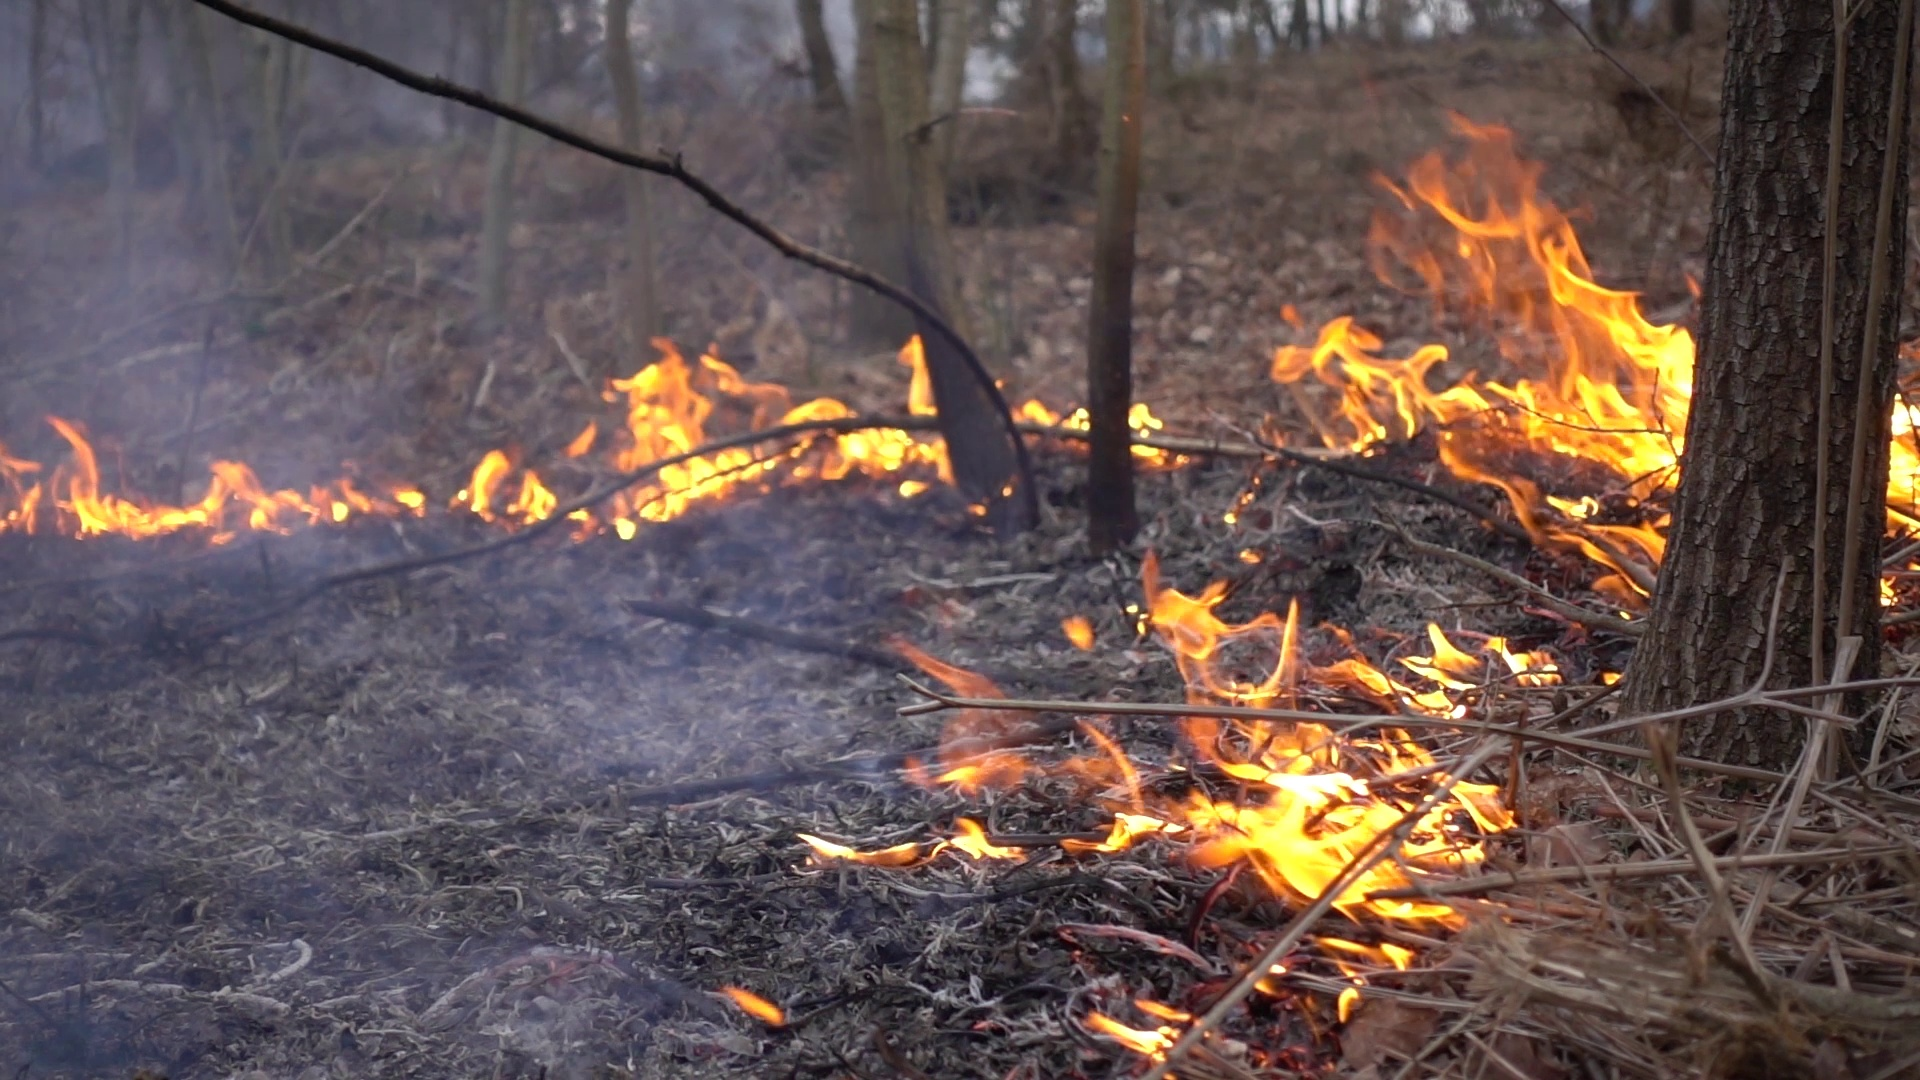fire: (911, 593, 1514, 990), (1274, 167, 1695, 593), (603, 351, 936, 524), (15, 451, 376, 527), (450, 450, 549, 526), (1886, 411, 1920, 516), (1017, 393, 1087, 433), (1129, 400, 1160, 433)
